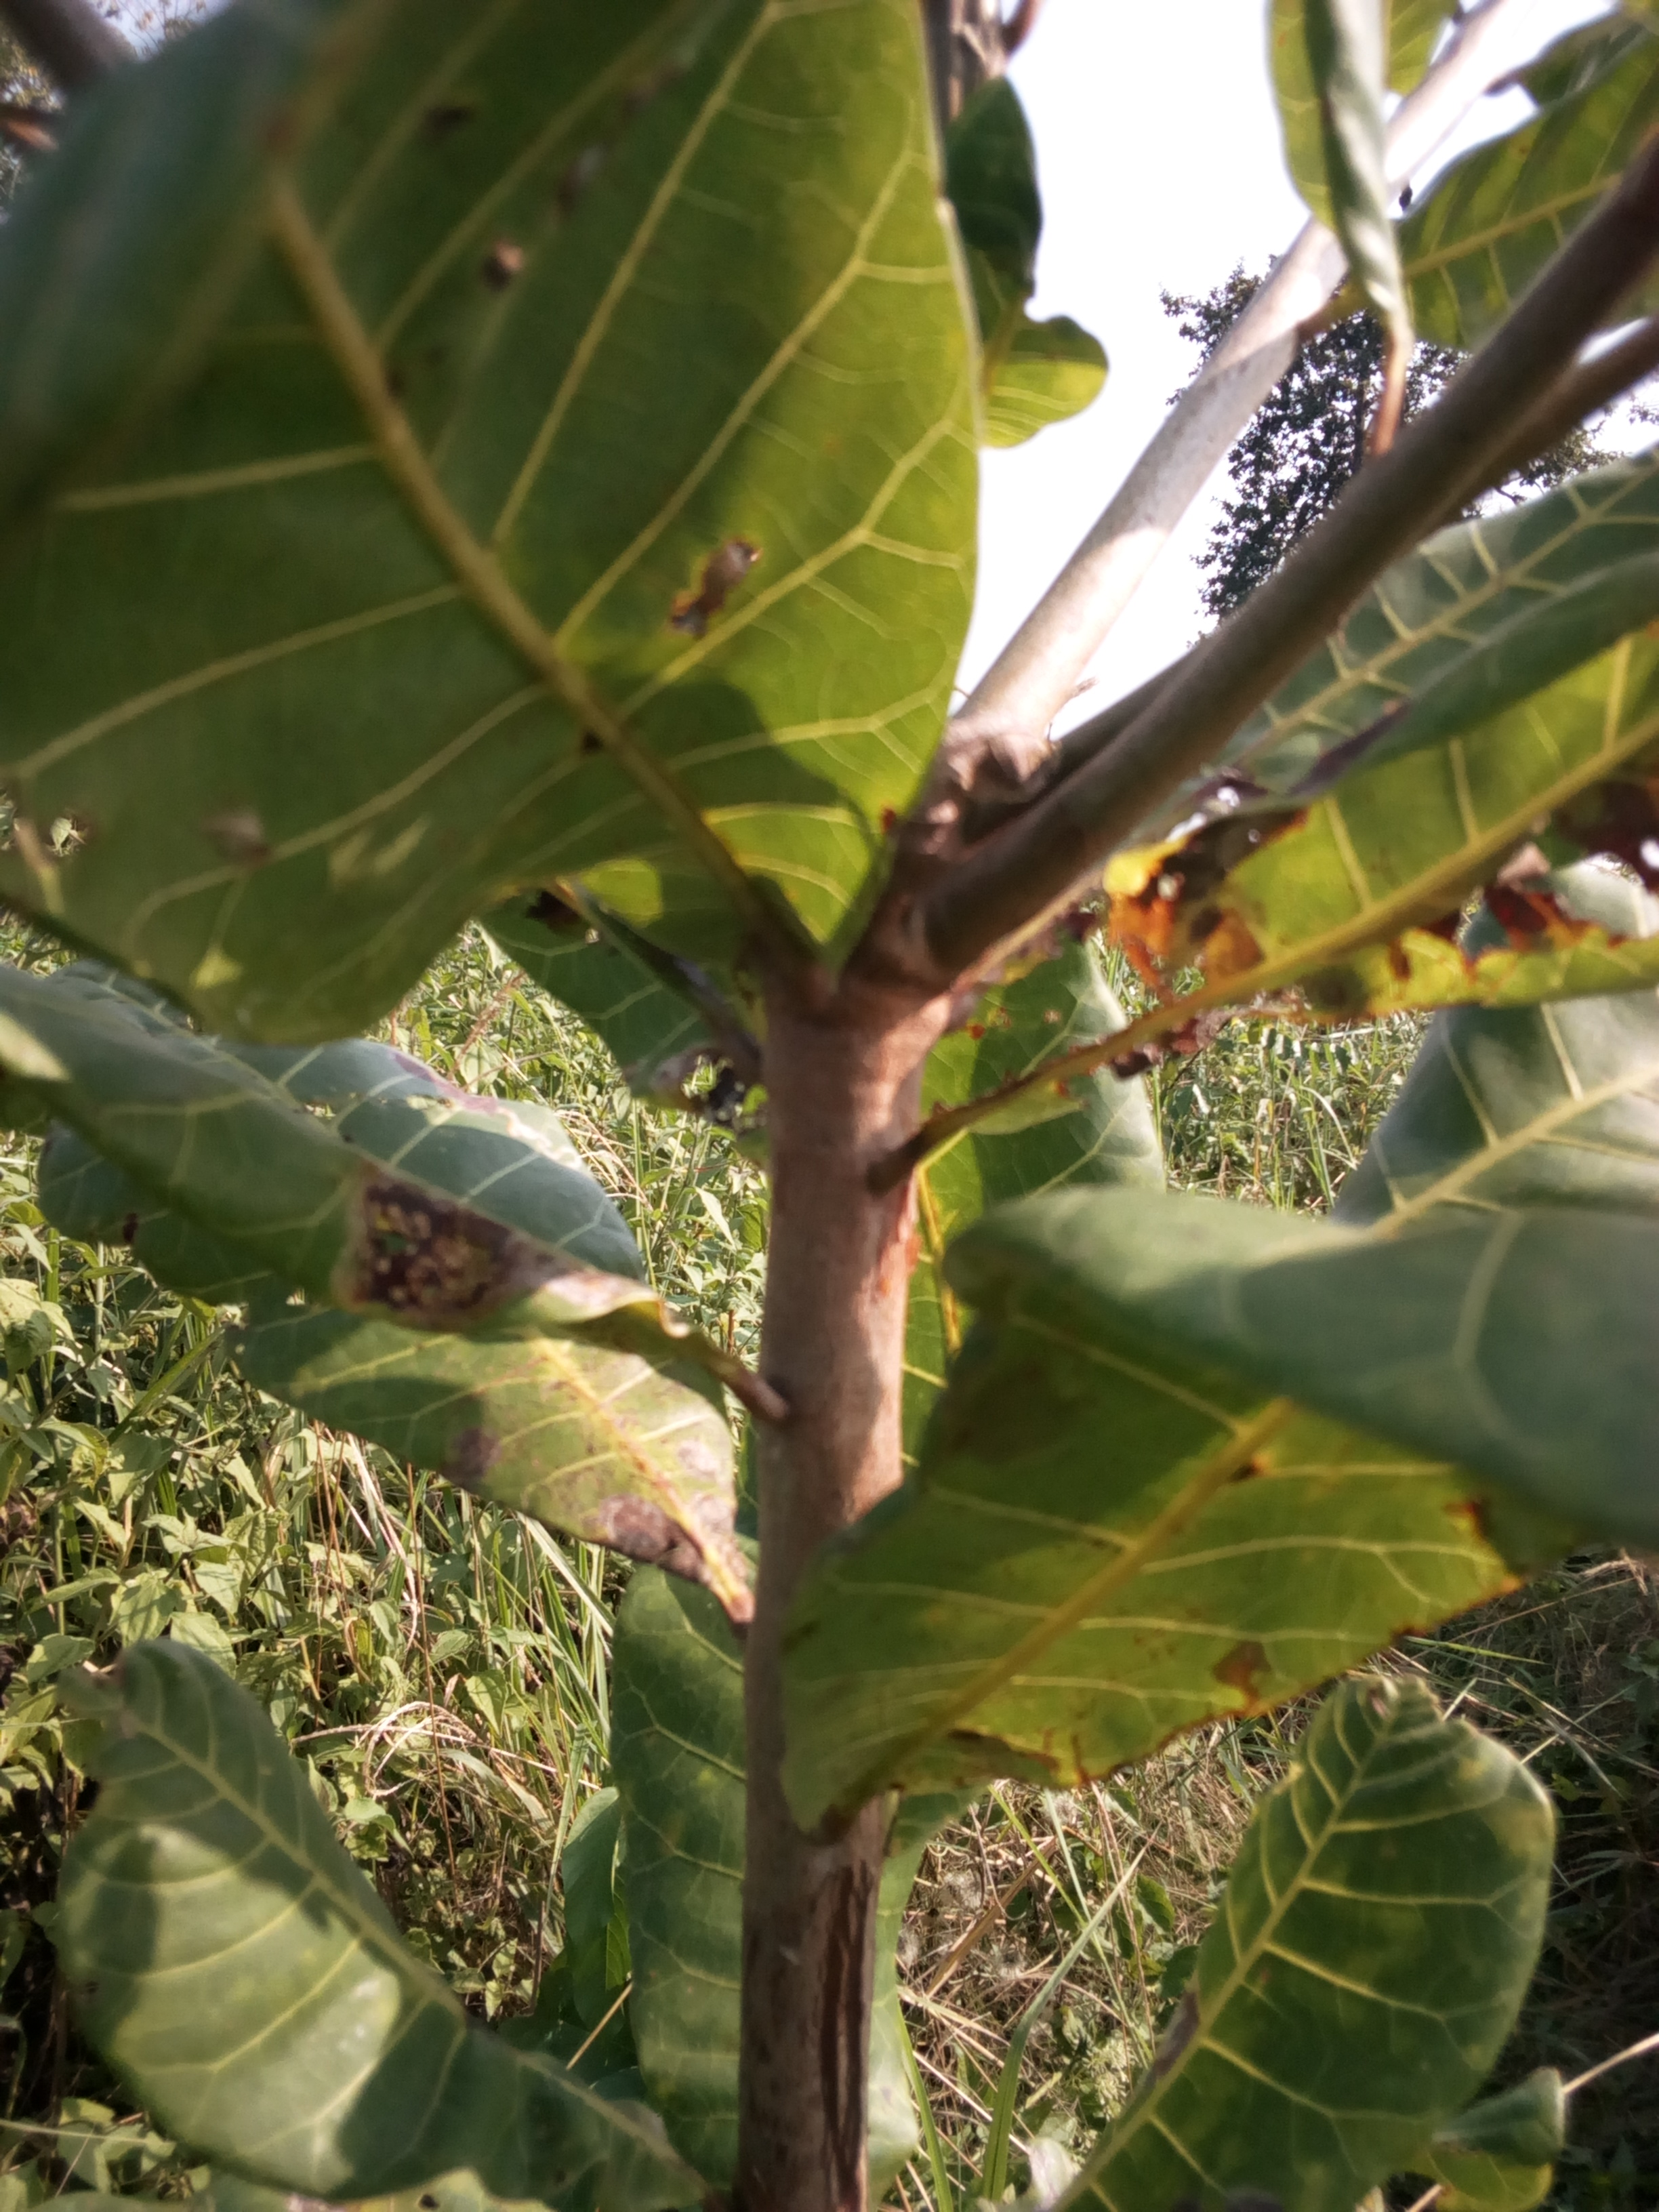Bactériose: (786, 1228, 1615, 1855), (94, 1052, 762, 1611), (1101, 611, 1659, 1052)
